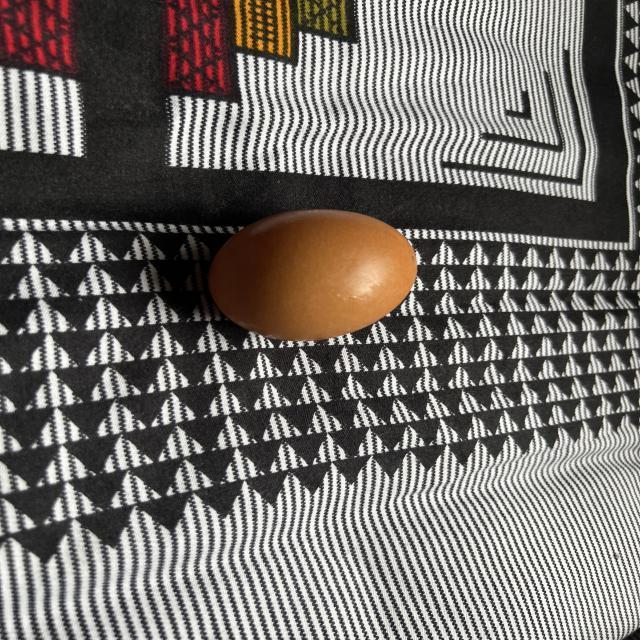egg: (195, 203, 428, 342)
